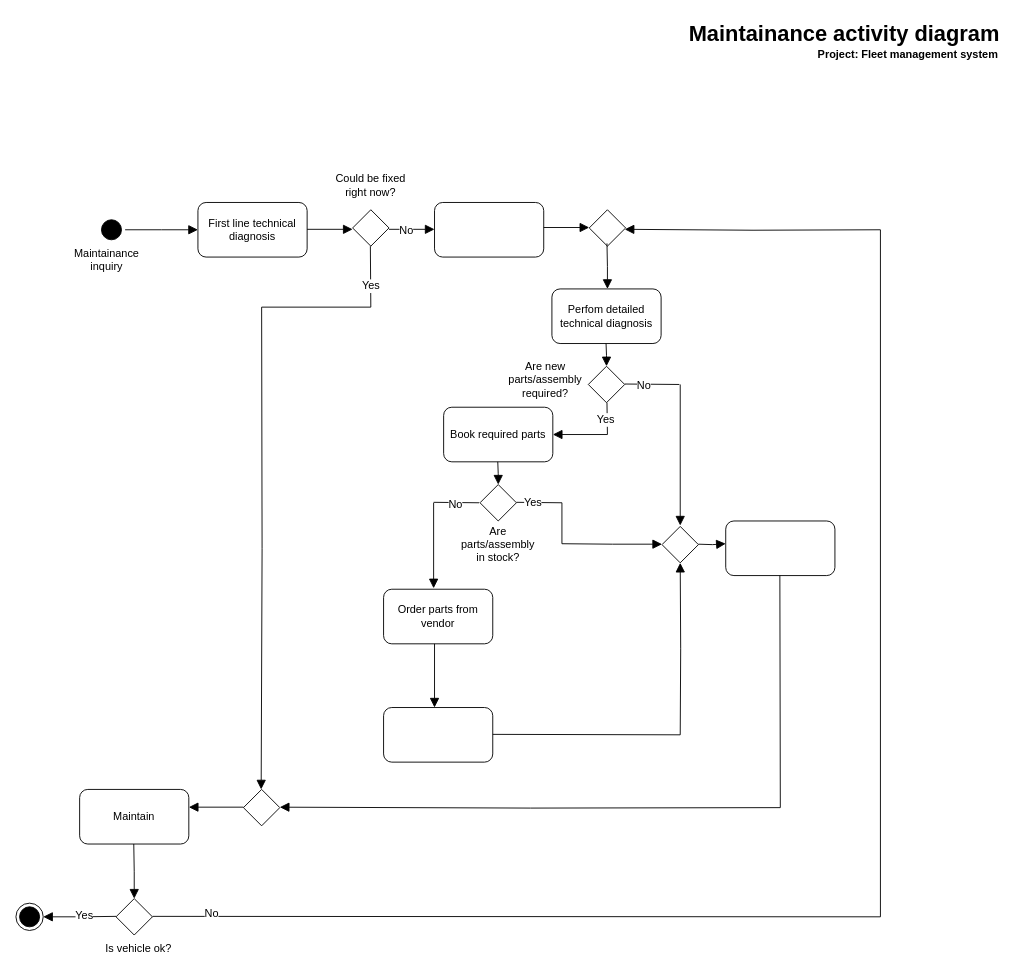
This 1015x977 diagram has some shape labels left out. The centre of each missing label's shape, as x and y in pixels:
"Assign service center/team" belongs at (x=489, y=229).
"Book technical specialist" belongs at (x=780, y=548).
"Put parts into stock" belongs at (x=438, y=734).
